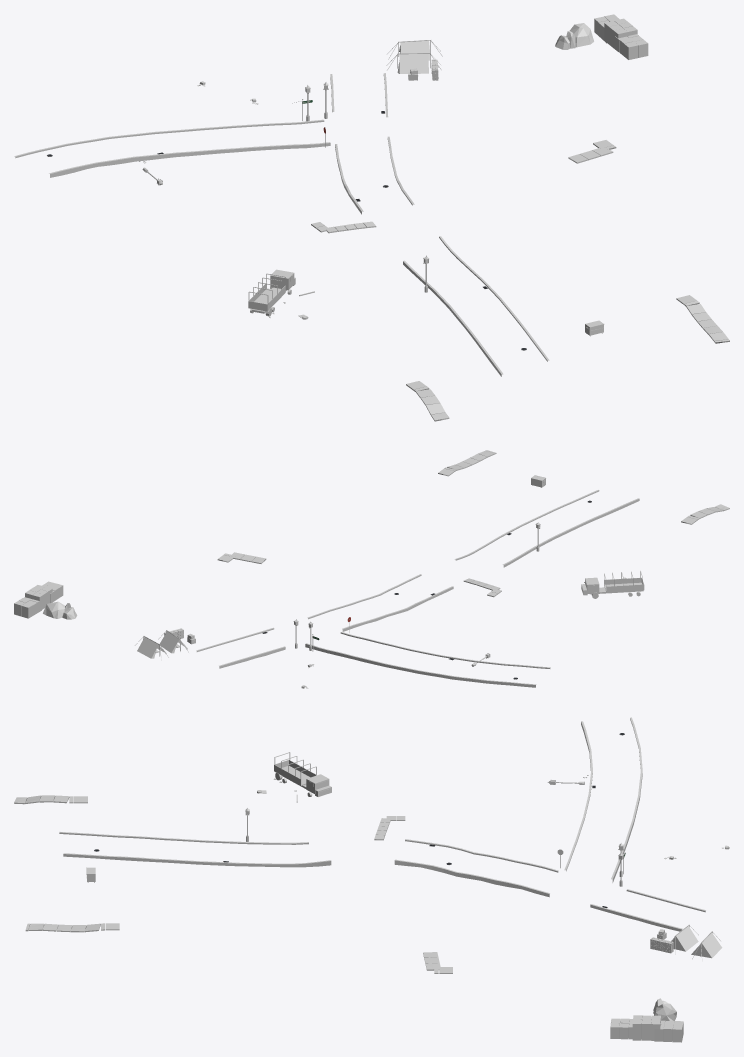
The model's file is outdoor_10.glb.
3 renders of one model, top to bottom at view 1: azimuth 30°, elevation 25°; view 2: azimuth 150°, elevation 25°; view 3: azimuth 270°, elevation 25°, orthographic. The views are drawn at different scales.
Parts seen in each view (by area): view 1: gas_station_town; view 2: gas_station_town; view 3: gas_station_town.
Boxes of the visible parts, x1,y1,x2,y2 form: gas_station_town: (14,14,729,421); gas_station_town: (14,450,729,688); gas_station_town: (14,717,729,1042).
Size of the model in its own units: 84.57 by 6.44 by 90.23.
2 materials, 1 textured.
